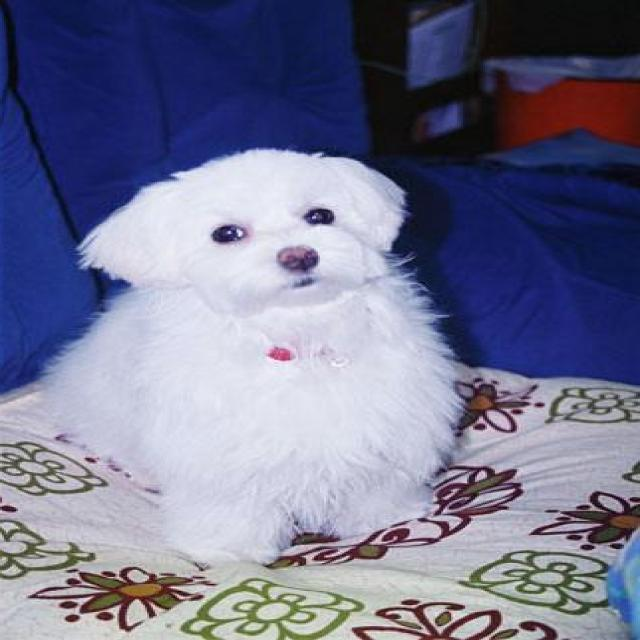maltese_dog: (46, 154, 450, 566)
